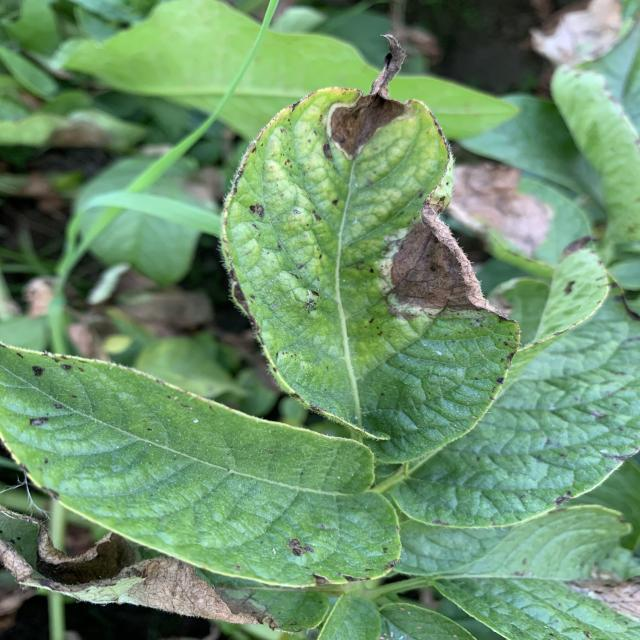lateblight: (382, 200, 507, 320), (448, 162, 553, 256), (330, 35, 405, 159)
